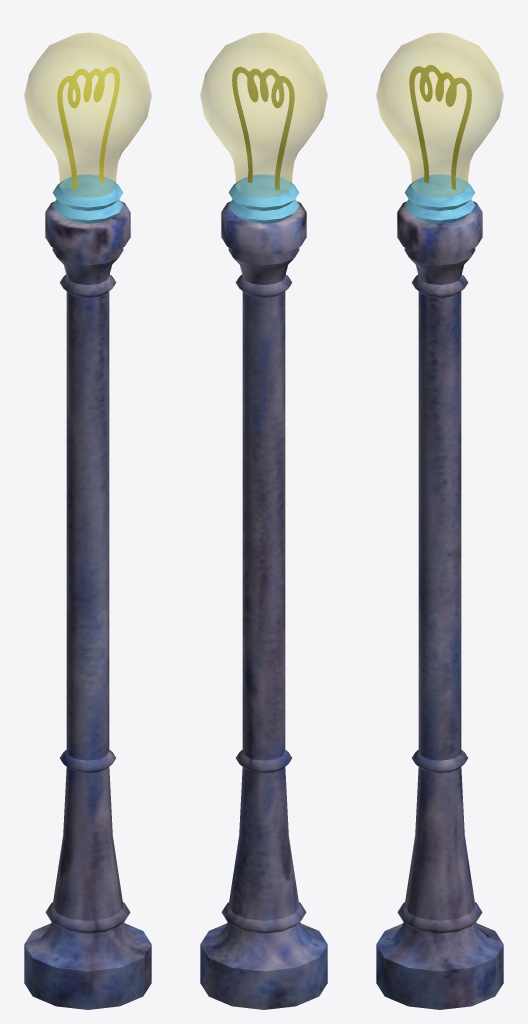
The model's file is fanal.FBX.
3 renders of one model, left to right at view 1: azimuth 30°, elevation 25°; view 2: azimuth 150°, elevation 25°; view 3: azimuth 330°, elevation 25°, orthographic.
Visible parts, largest first — view 1: Fanal, Bombeta, Rosca, Filament; view 2: Fanal, Bombeta, Rosca, Filament; view 3: Fanal, Bombeta, Rosca, Filament.
Boxes of the visible parts, x1,y1,x2,y2 form: Fanal: (24, 201, 151, 1009); Bombeta: (24, 32, 151, 197); Rosca: (52, 174, 123, 223); Filament: (57, 66, 119, 189); Fanal: (200, 201, 327, 1009); Bombeta: (200, 32, 327, 197); Rosca: (228, 174, 299, 223); Filament: (232, 66, 294, 189); Fanal: (376, 201, 503, 1009); Bombeta: (376, 32, 503, 197); Rosca: (404, 174, 475, 223); Filament: (409, 65, 471, 189).
Bounding box in the file's own units: 60 × 370 × 45.
